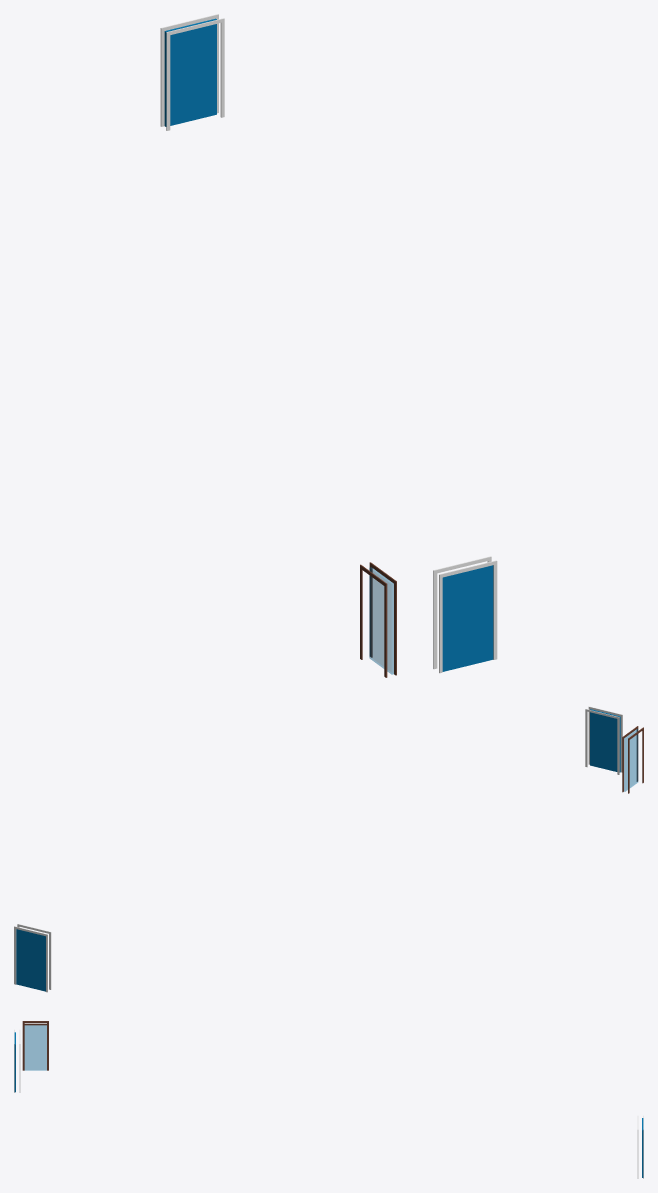
Rendered from Zoll_Atruimholes_zonesupdaes_Level_5_IfcDoor.dae.
3 renders of one model, top to bottom at view 1: azimuth 30°, elevation 25°; view 2: azimuth 150°, elevation 25°; view 3: azimuth 270°, elevation 25°, orthographic. The views are drawn at different scales.
Parts seen in each view (by area): view 1: 2vyJDqjTz0EPL1DieQ3Pq$, 1VHnqfzGf7kAxMH4fqfX7f, 3vSe8fBOnBYuhKn3XRNL4C; view 2: 2vyJDqjTz0EPL1DieQ3Pq$, 1VHnqfzGf7kAxMH4fqfX7f, 3vSe8fBOnBYuhKn3XRNL4C; view 3: 3vSe8fBOnBYuhKn3XRNL4C, 2vyJDqjTz0EPL1DieQ3Pq$, 1VHnqfzGf7kAxMH4fqfX7f.
Part boxes in pixels (x1,y1,x2,y2): 2vyJDqjTz0EPL1DieQ3Pq$: (433, 556, 497, 673); 1VHnqfzGf7kAxMH4fqfX7f: (160, 14, 224, 130); 3vSe8fBOnBYuhKn3XRNL4C: (360, 562, 396, 677); 2vyJDqjTz0EPL1DieQ3Pq$: (585, 706, 622, 774); 1VHnqfzGf7kAxMH4fqfX7f: (14, 924, 51, 992); 3vSe8fBOnBYuhKn3XRNL4C: (622, 726, 643, 793); 3vSe8fBOnBYuhKn3XRNL4C: (22, 1021, 48, 1070); 2vyJDqjTz0EPL1DieQ3Pq$: (14, 1029, 20, 1092); 1VHnqfzGf7kAxMH4fqfX7f: (637, 1115, 643, 1178).
Size of the model in its own units: 10.65 by 25.62 by 2.21.
